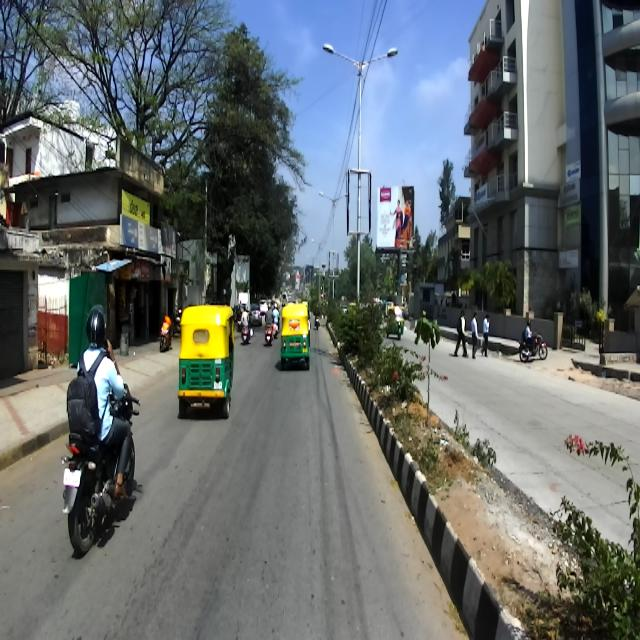auto ahead at: (172, 303, 236, 429), (274, 299, 312, 383)
motorcycle ahead at: (60, 421, 144, 560)
